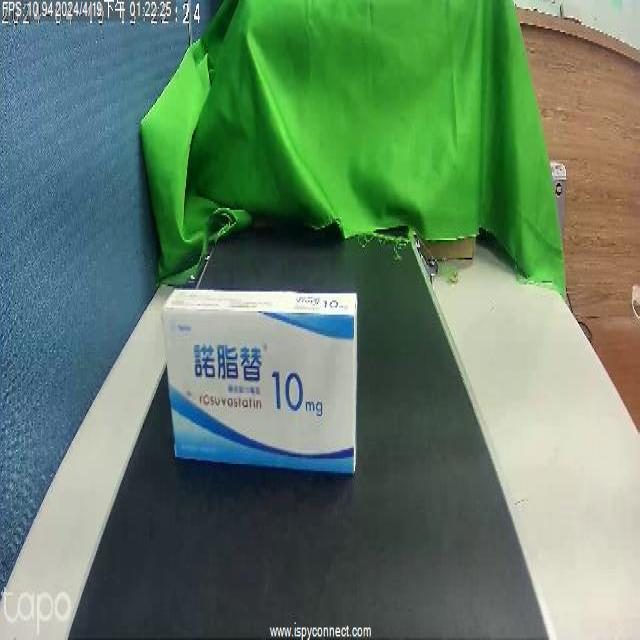box: (164, 261, 354, 484)
